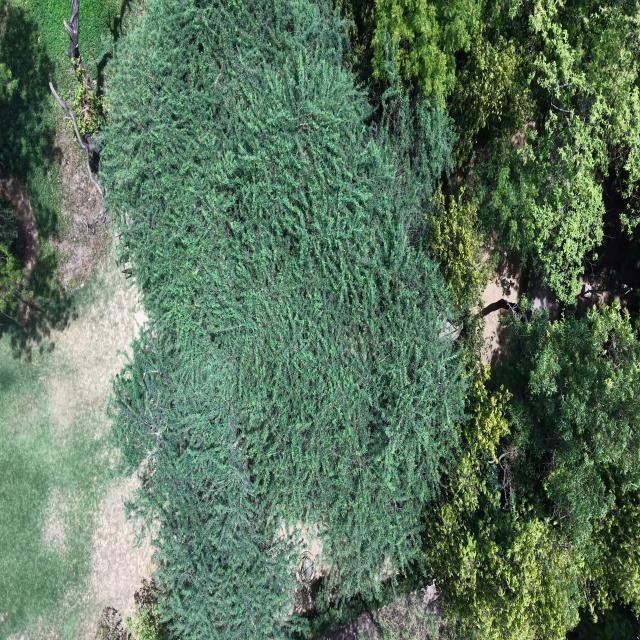DRY_AREA: (0, 65, 150, 639), (0, 119, 151, 639), (0, 126, 150, 639), (0, 260, 150, 639), (47, 117, 111, 290), (49, 116, 112, 290), (315, 583, 441, 639), (481, 255, 525, 365), (0, 175, 39, 280), (482, 261, 521, 308)
VEGETATION_TREE: (0, 0, 639, 639), (100, 0, 639, 639), (101, 0, 465, 637), (425, 3, 639, 637), (345, 0, 639, 303), (0, 0, 132, 638), (423, 305, 639, 639), (452, 2, 639, 303), (457, 2, 639, 303), (0, 263, 135, 639), (499, 304, 639, 612), (421, 370, 581, 639), (0, 0, 127, 315), (0, 0, 59, 238), (371, 0, 483, 101), (49, 0, 105, 197), (428, 186, 490, 308), (64, 0, 104, 145), (0, 199, 25, 319), (0, 198, 24, 319), (126, 579, 169, 639), (72, 64, 104, 138), (573, 606, 639, 639), (0, 199, 20, 252), (0, 64, 17, 103)
